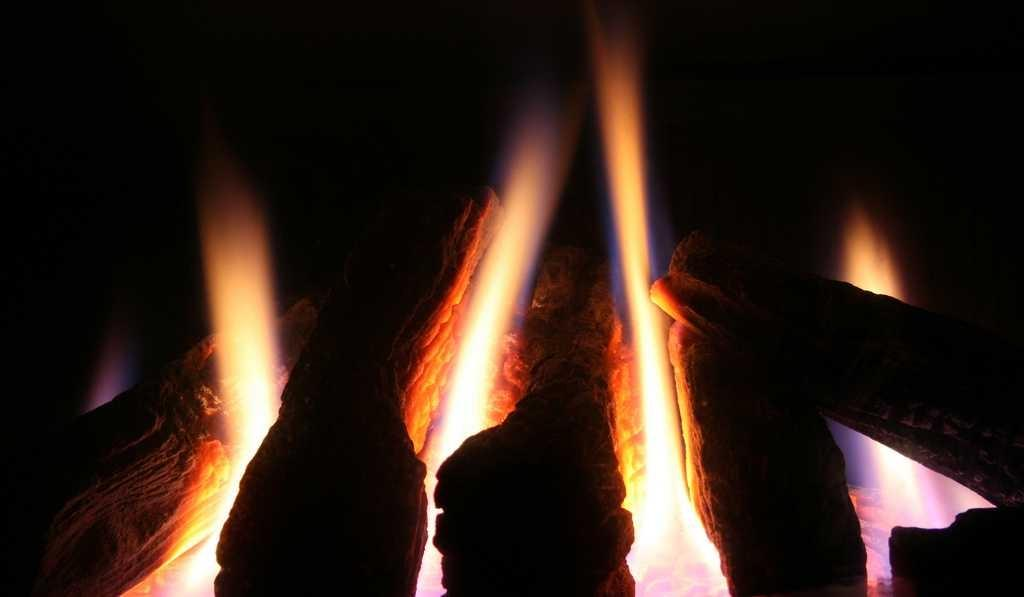fire: (204, 189, 281, 401), (633, 319, 674, 566), (476, 194, 531, 356), (617, 76, 657, 284), (441, 376, 490, 436), (176, 523, 231, 574)
